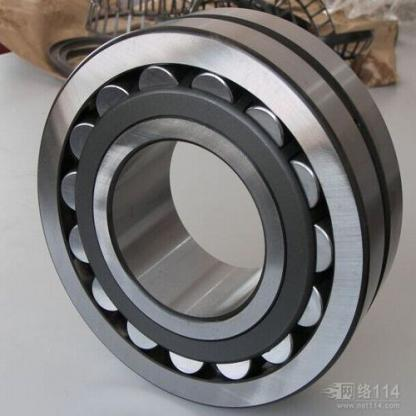FOD: (29, 4, 406, 410)
